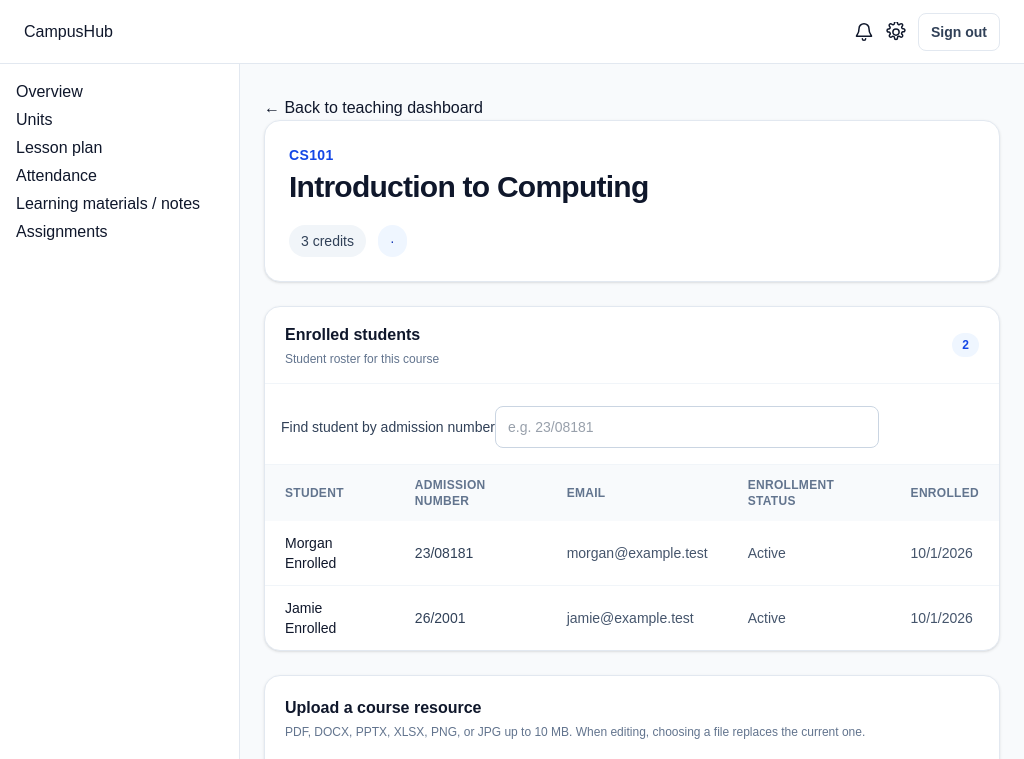
Test case: student and staff workflows › shows the authorized lecturer course roster
This screenshot has width=1024, height=759.
Expected: the text "Morgan Enrolled" is shown, [265,521,395,586]
Expected: the text "23/08181" is shown, [395,521,547,586]
In the search field labelled "Find student by admission number": point(687, 427) [495,406,879,448], type "23/08181"
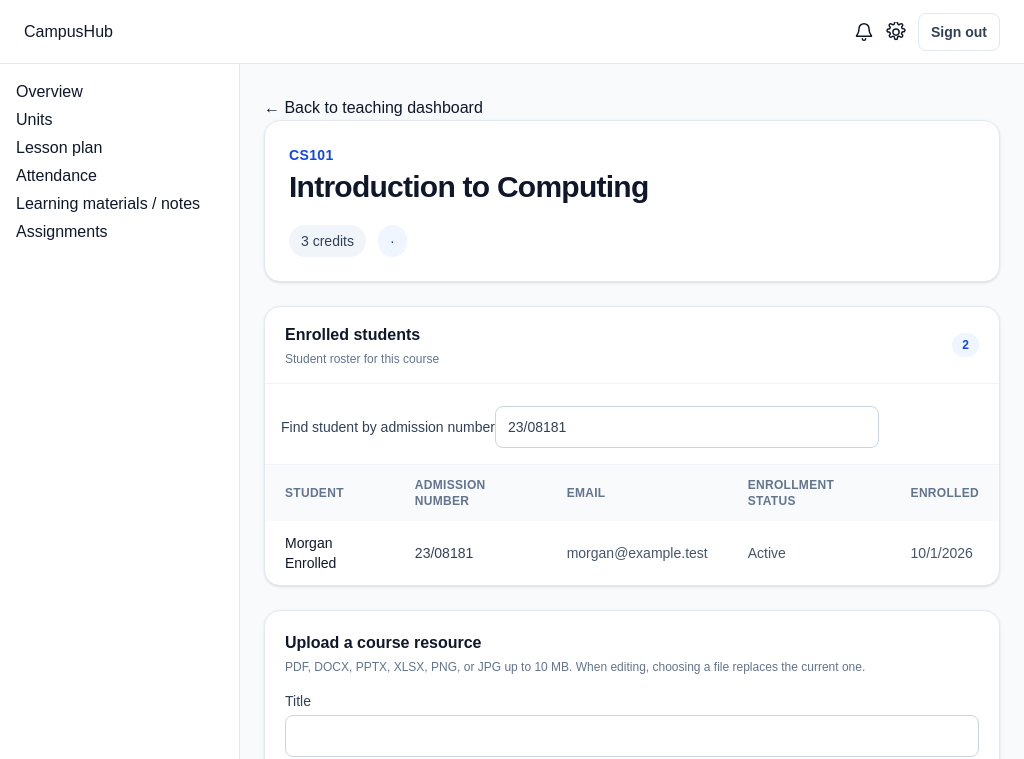
Expected: the text "Morgan Enrolled" is shown, [265,521,395,585]
Expected: the text "Jamie Enrolled" is gone
